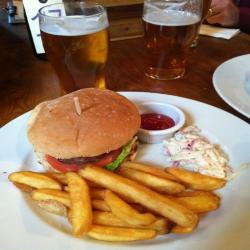burger: (22, 86, 144, 183)
fries: (6, 163, 240, 243)
ketchup: (127, 100, 189, 142)
